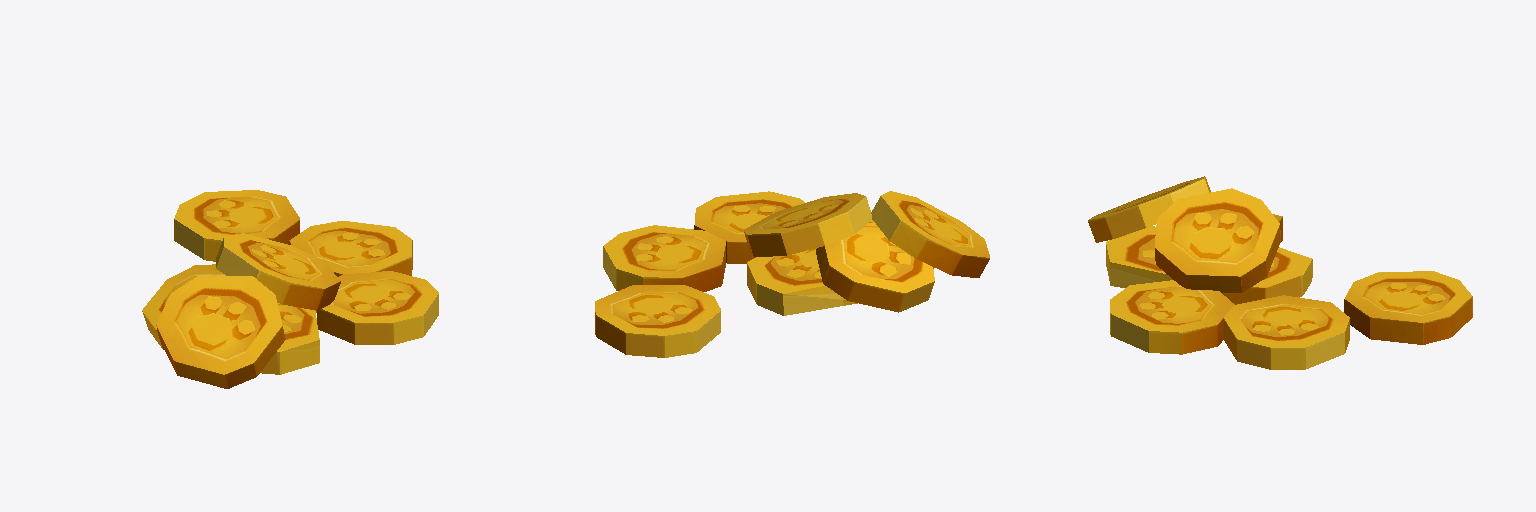
The picture shows the model from 3 angles: view 1: azimuth 30°, elevation 25°; view 2: azimuth 150°, elevation 25°; view 3: azimuth 270°, elevation 25°; orthographic projection.
Parts seen in each view (by area): view 1: Coins1; view 2: Coins1; view 3: Coins1.
Boxes of the visible parts, x1,y1,x2,y2 form: Coins1: [142, 190, 438, 388]; Coins1: [595, 191, 989, 357]; Coins1: [1088, 176, 1472, 369].
Size of the model in its own units: 8.24 by 2.09 by 9.02.
1 materials, 1 textured.